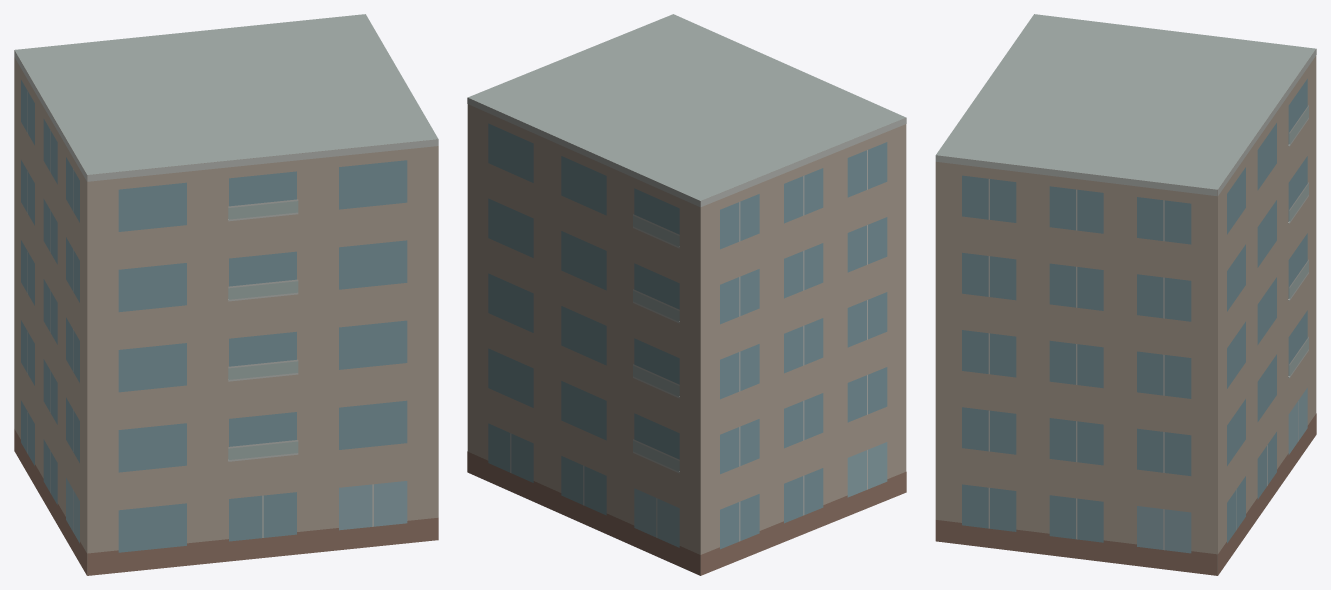
File: survey-upis-32873582.glb
3 renders of one model, left to right at view 1: azimuth 30°, elevation 25°; view 2: azimuth 150°, elevation 25°; view 3: azimuth 270°, elevation 25°, orthographic. The views are drawn at different scales.
Parts seen in each view (by area): view 1: survey-upis-32873582.tmp; view 2: survey-upis-32873582.tmp; view 3: survey-upis-32873582.tmp.
Boxes of the visible parts, box(x1,y1,x2,y2) form: survey-upis-32873582.tmp: box(14, 14, 438, 575); survey-upis-32873582.tmp: box(467, 14, 906, 575); survey-upis-32873582.tmp: box(935, 14, 1316, 575).
Bounding box in the file's own units: 14.07 × 14.4 × 12.88.
